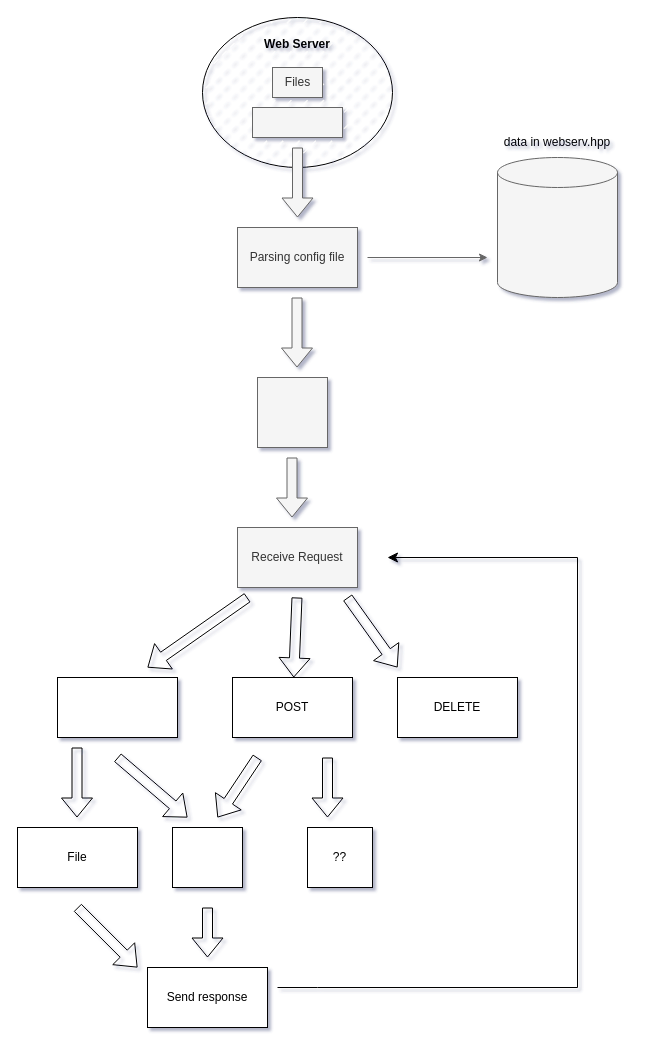
Image size: 651x1051. Some labels were removed from this diagram. Here are the shapes that lost their labels. From the top down, the box of each, then its label:
(252, 106, 342, 138): HTTP Server
(496, 156, 618, 298): -ports - root path
(256, 376, 328, 448): Bindings sockets
(56, 676, 178, 738): GET
(172, 826, 242, 888): CGI
